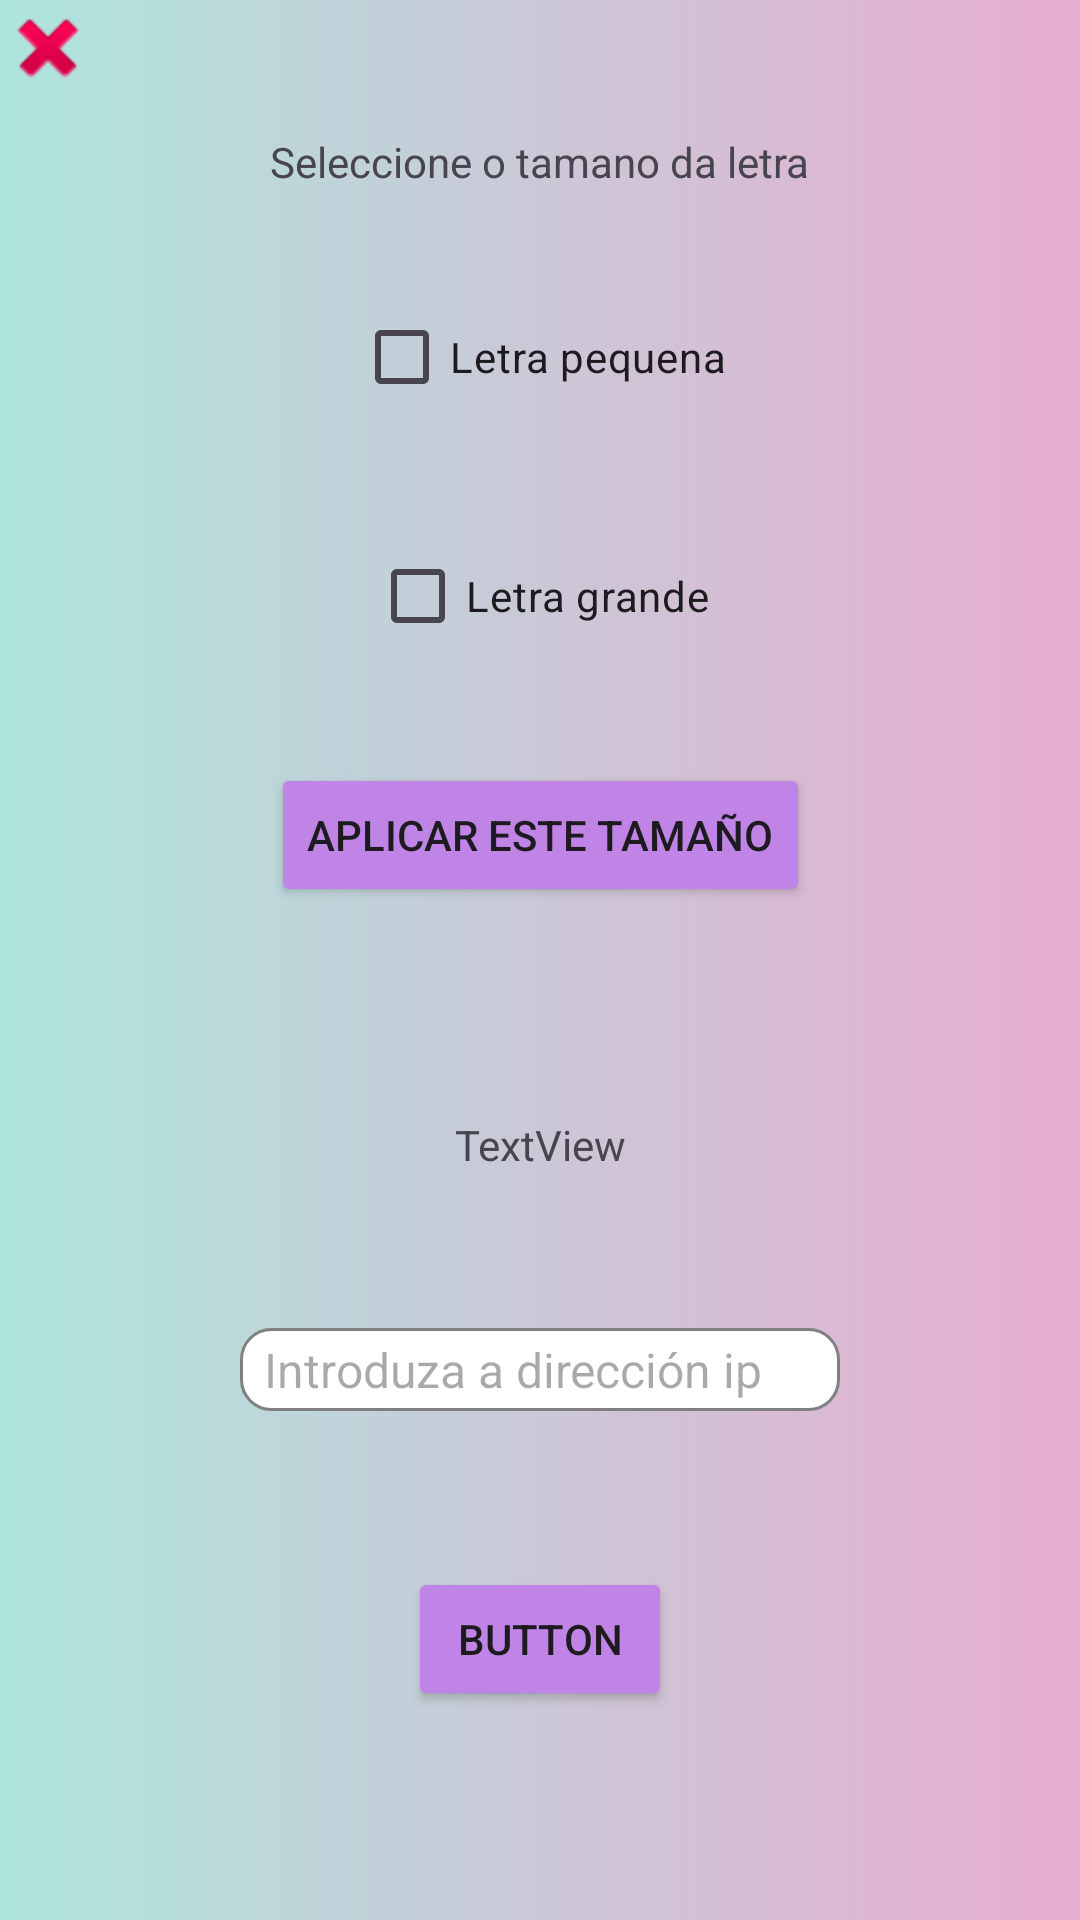

Named icons in this screenshot (1080 x 1920) and their bounding boxes, (x1, y1, x2, y2):
delete: (18, 19, 79, 78)
